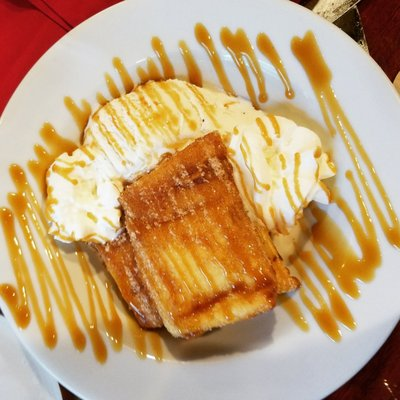soup: (96, 136, 300, 339)
